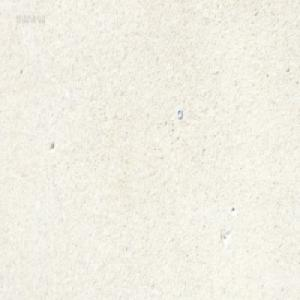Washer: (176, 108, 182, 119)
